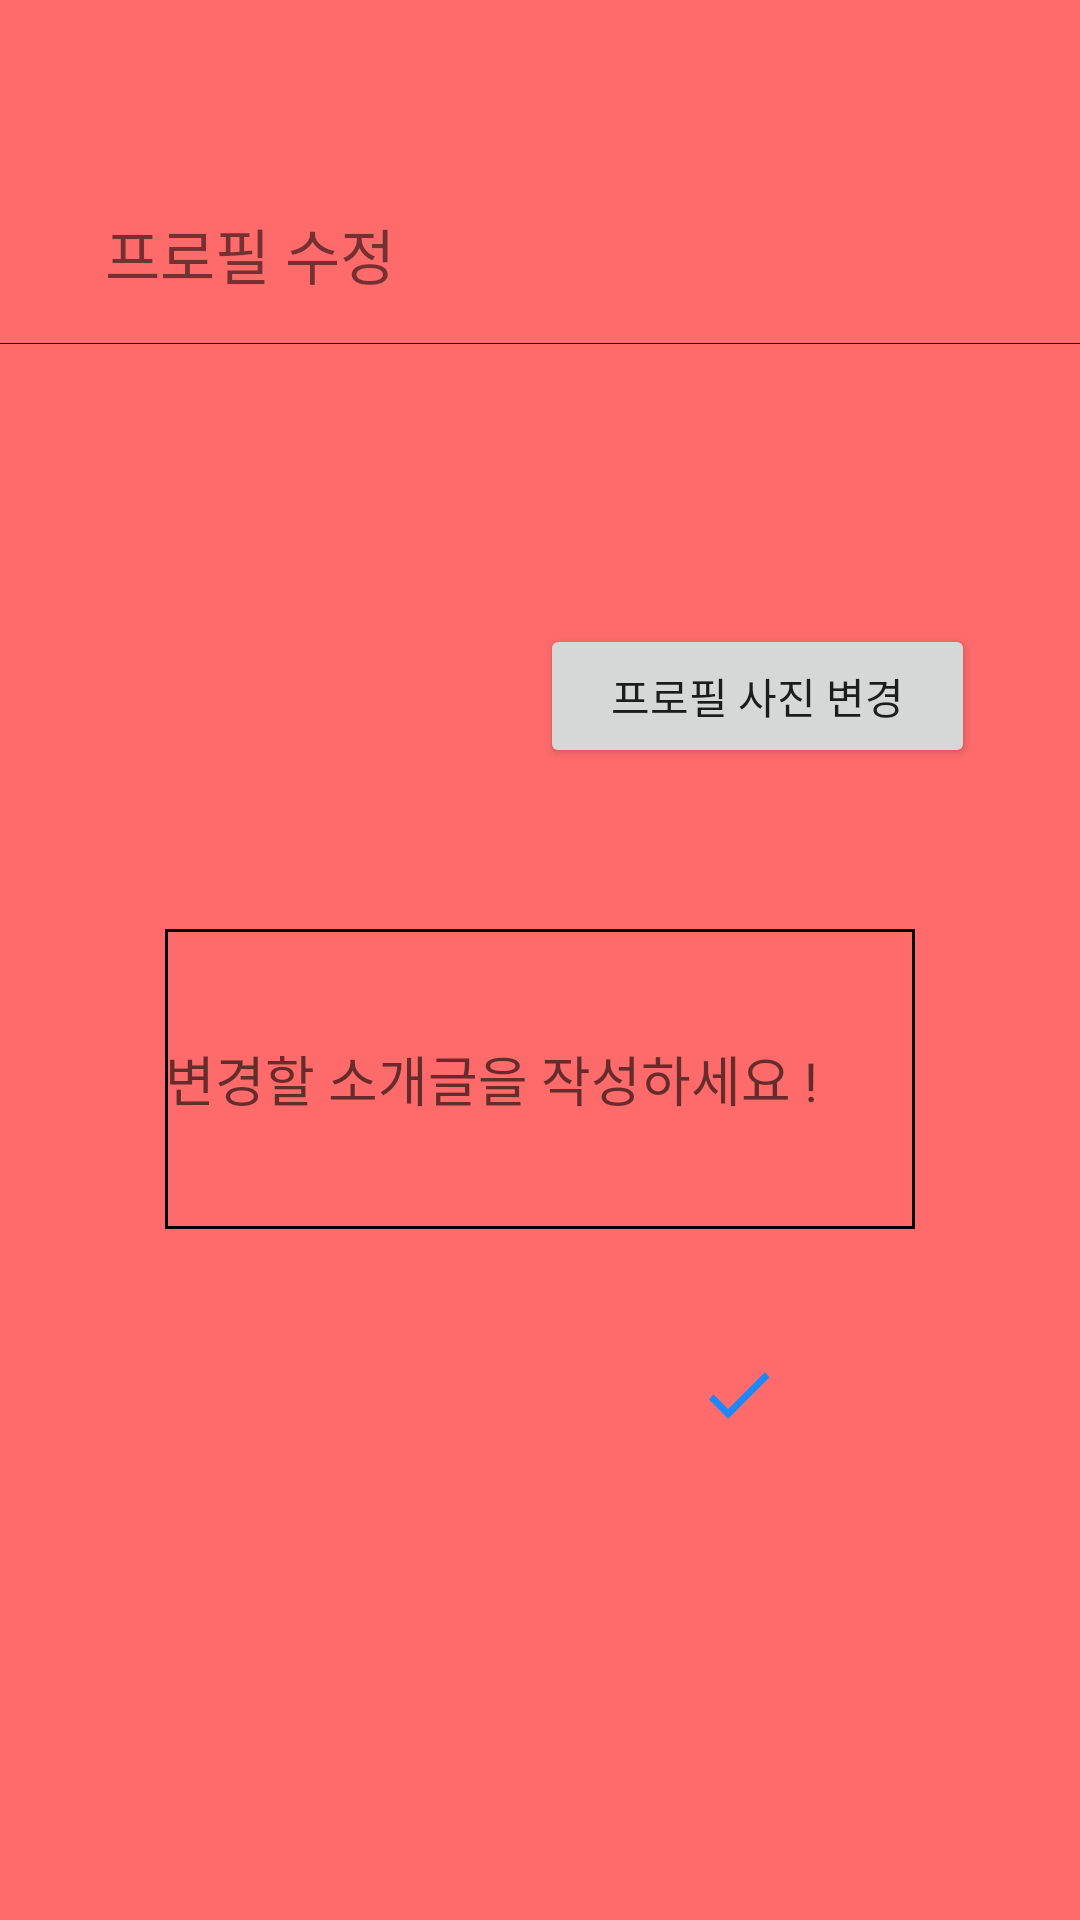

Icons on this 1080px×1920px Android screen, each with its box as BBox(x1, y1, x2, y2):
check: BBox(709, 1372, 770, 1419)
